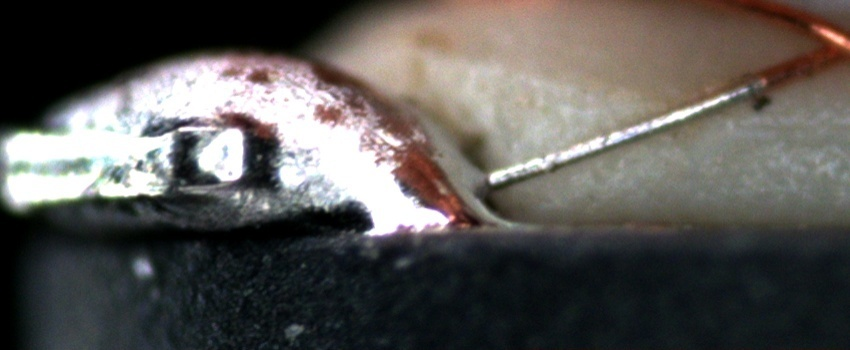TS: (488, 79, 761, 186)
